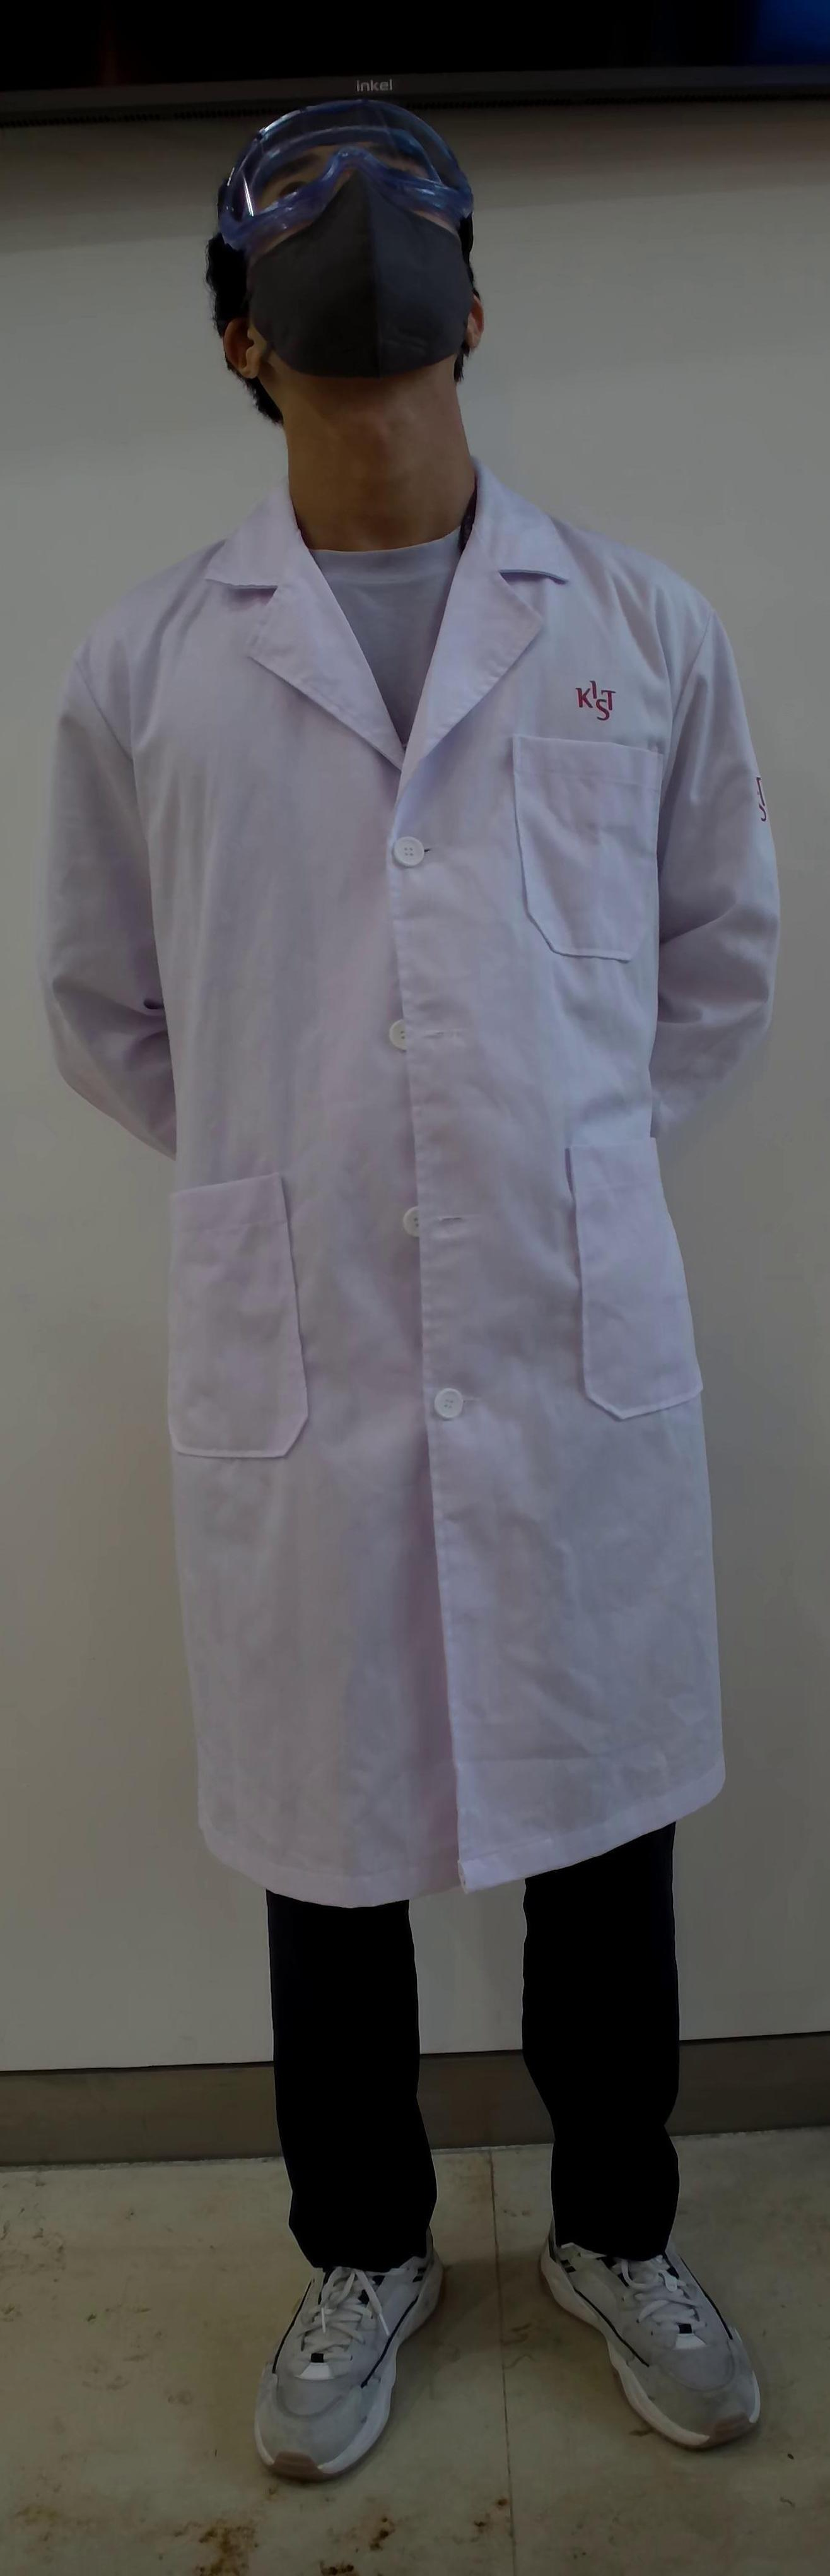lab_coat: (64, 588, 789, 1870)
